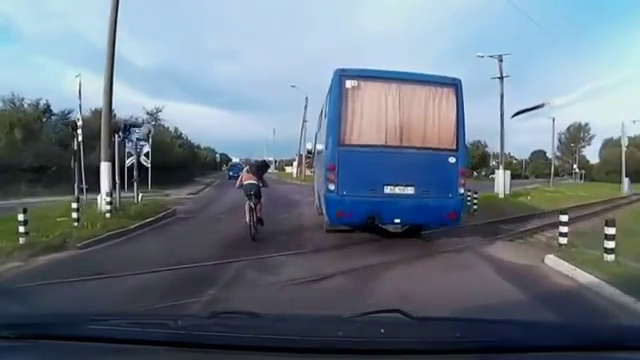cyclist_back: (232, 155, 270, 241)
